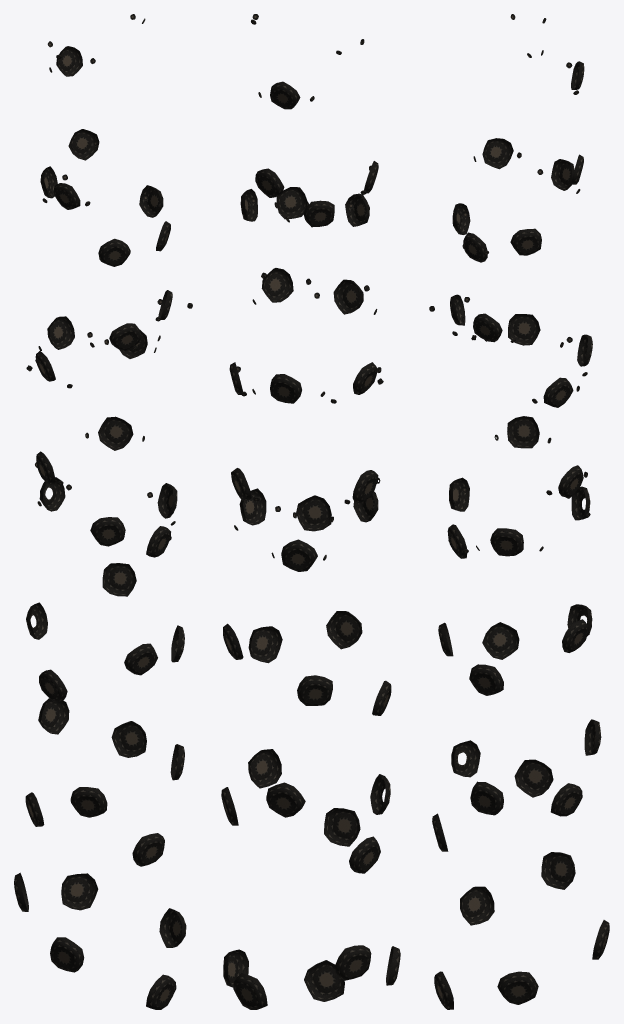
File: Sitka_Mature_01_HighPruned_Healed_LOD1.fbx
The picture shows the model from 3 angles, left to right: view 1: azimuth 30°, elevation 25°; view 2: azimuth 150°, elevation 25°; view 3: azimuth 270°, elevation 25°; orthographic projection. The views are drawn at different scales.
Parts seen in each view (by area): view 1: Sitka_Mature_01_HighPruned_Healed_LOD1_Scars; view 2: Sitka_Mature_01_HighPruned_Healed_LOD1_Scars; view 3: Sitka_Mature_01_HighPruned_Healed_LOD1_Scars.
Boxes of the visible parts, x1,y1,x2,y2 form: Sitka_Mature_01_HighPruned_Healed_LOD1_Scars: (14,14,192,1009); Sitka_Mature_01_HighPruned_Healed_LOD1_Scars: (221,14,400,1009); Sitka_Mature_01_HighPruned_Healed_LOD1_Scars: (429,14,609,1009).
Size of what is drawn, in the model's own units: 128 by 780 by 132.
Materials: 2 (2 with a texture image).
